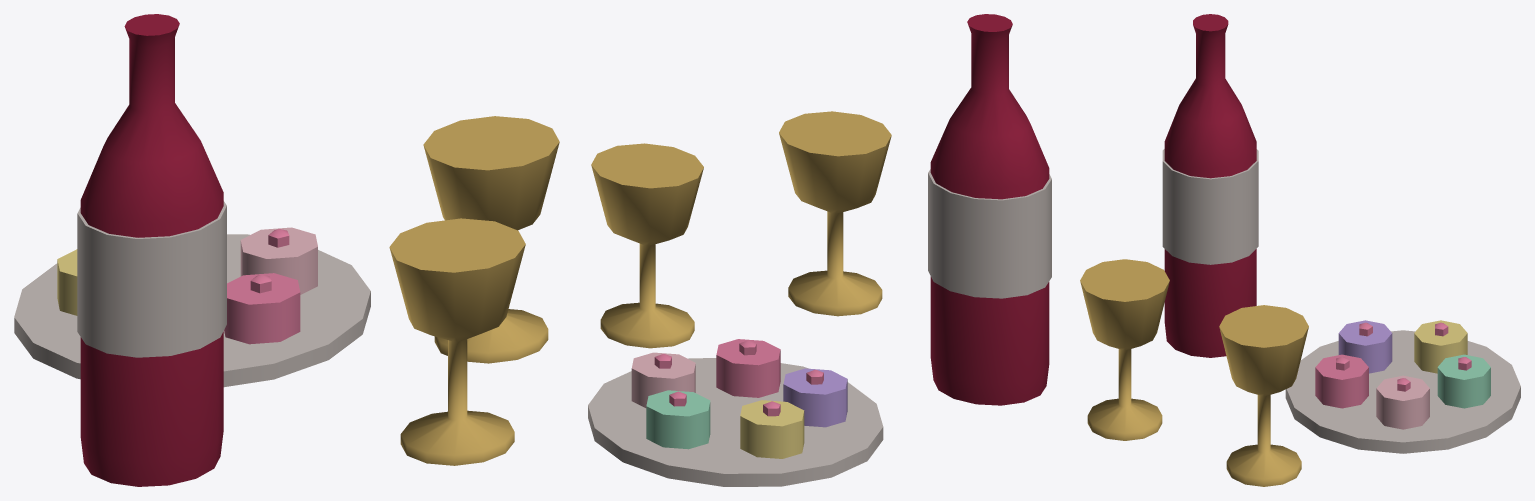
The model's file is picnic_wine.glb.
3 renders of one model, left to right at view 1: azimuth 30°, elevation 25°; view 2: azimuth 150°, elevation 25°; view 3: azimuth 270°, elevation 25°, orthographic. The views are drawn at different scales.
Visible parts, largest first — view 1: picnic_wine; view 2: picnic_wine; view 3: picnic_wine.
Boxes of the visible parts, x1=… form: picnic_wine: x1=14, y1=14, x2=559, y2=486; picnic_wine: x1=588, y1=14, x2=1051, y2=486; picnic_wine: x1=1080, y1=14, x2=1520, y2=486.
Size of what is drawn, in the model's own units: 0.4 by 0.33 by 0.42.
